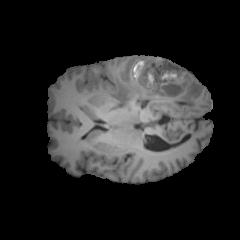glioma: (108, 57, 200, 111)
